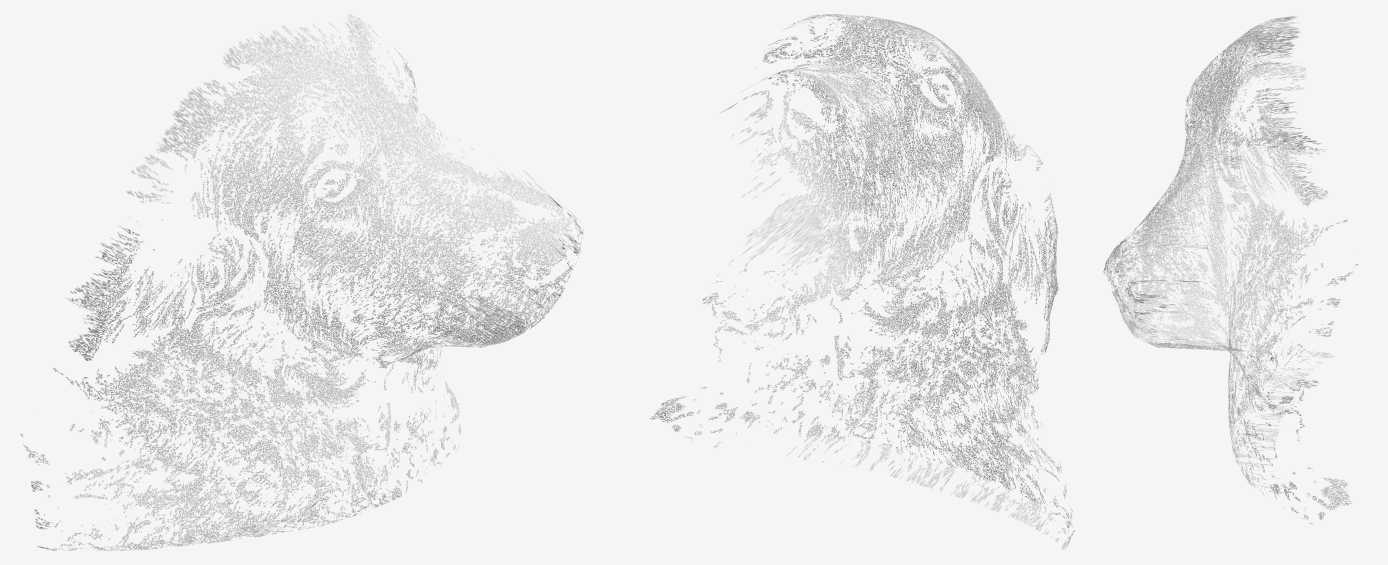
The model's file is engraving_test_4_emit_0.glb.
3 renders of one model, left to right at view 1: azimuth 30°, elevation 25°; view 2: azimuth 150°, elevation 25°; view 3: azimuth 270°, elevation 25°, orthographic. The views are drawn at different scales.
Parts seen in each view (by area): view 1: mesh; view 2: mesh; view 3: mesh.
Part boxes in pixels (<box>): mesh: <box>20,14,583,550</box>; mesh: <box>650,14,1074,549</box>; mesh: <box>1103,15,1357,523</box>.
Bounding box in the file's own units: 0.0502 × 0.0505 × 0.0292.
1 material, 1 textured.
